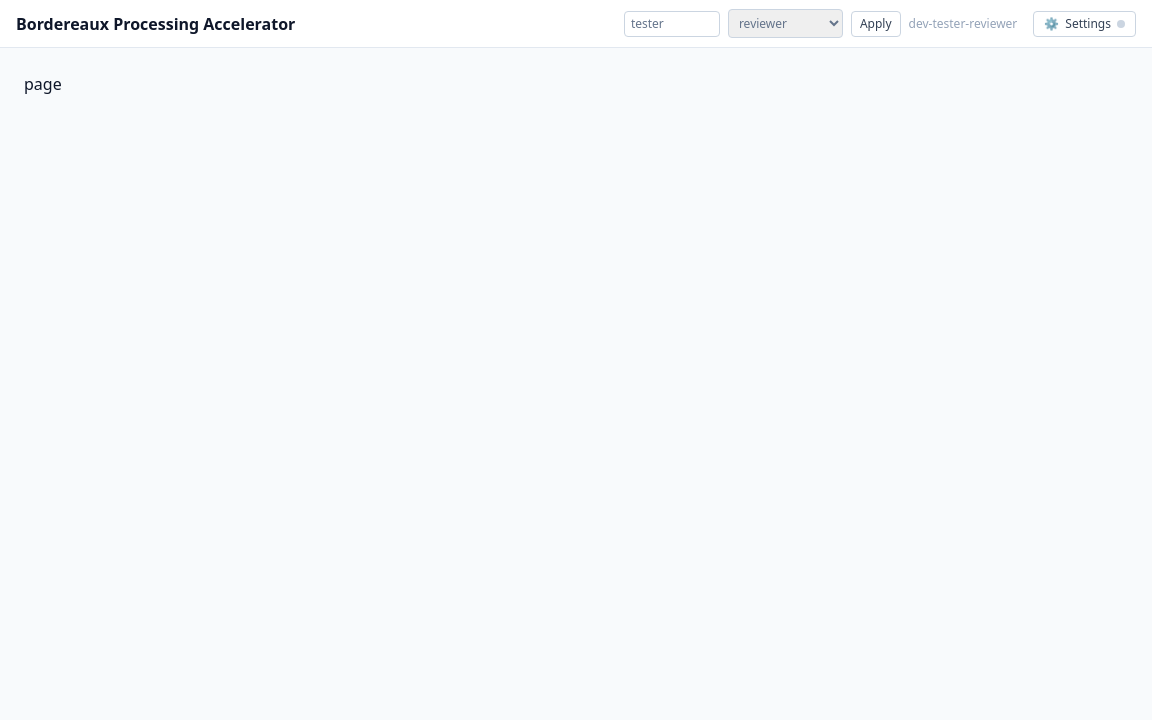
Scenario: Settings -> AI connection › opens from the header, shows the no-key state, and closes with Escape
The image size is (1152, 720).
Step 1. Click the button "⚙ Settings" → (1085, 24), box [1033, 10, 1136, 36]
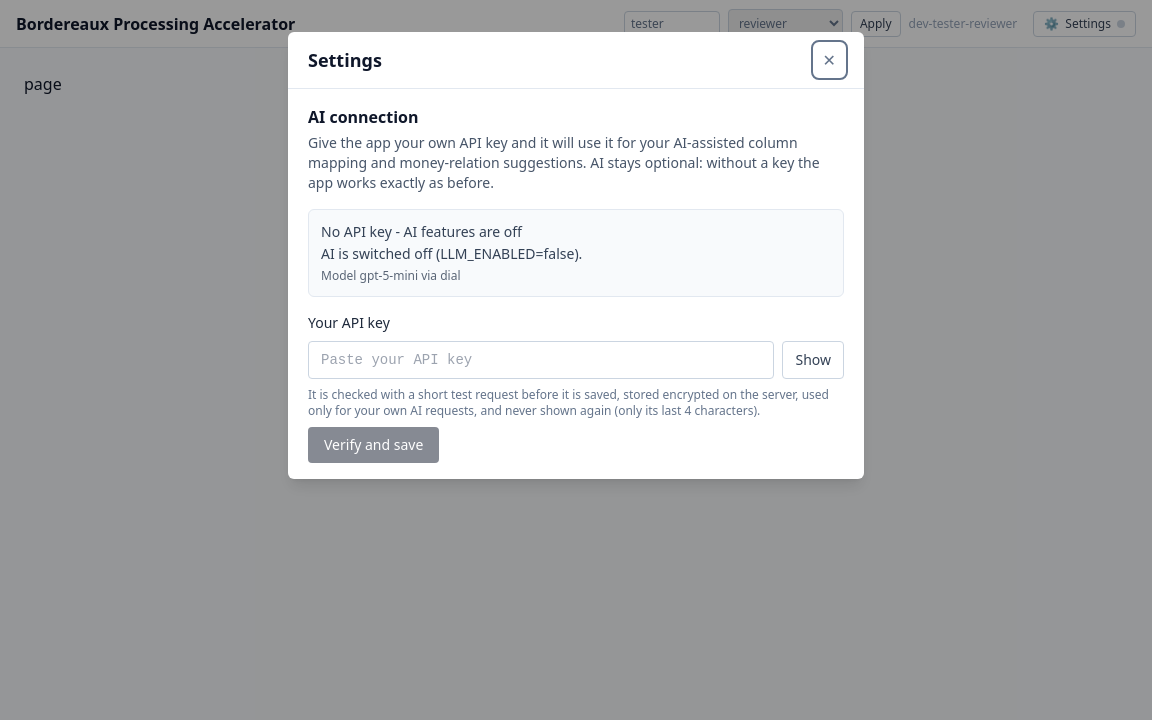
Expected: the picture named "AI not connected" is shown, [1117, 20, 1125, 28]
Expected: the text "No API key - AI features are off" is shown, [321, 222, 522, 241]
Step 2. Press Escape
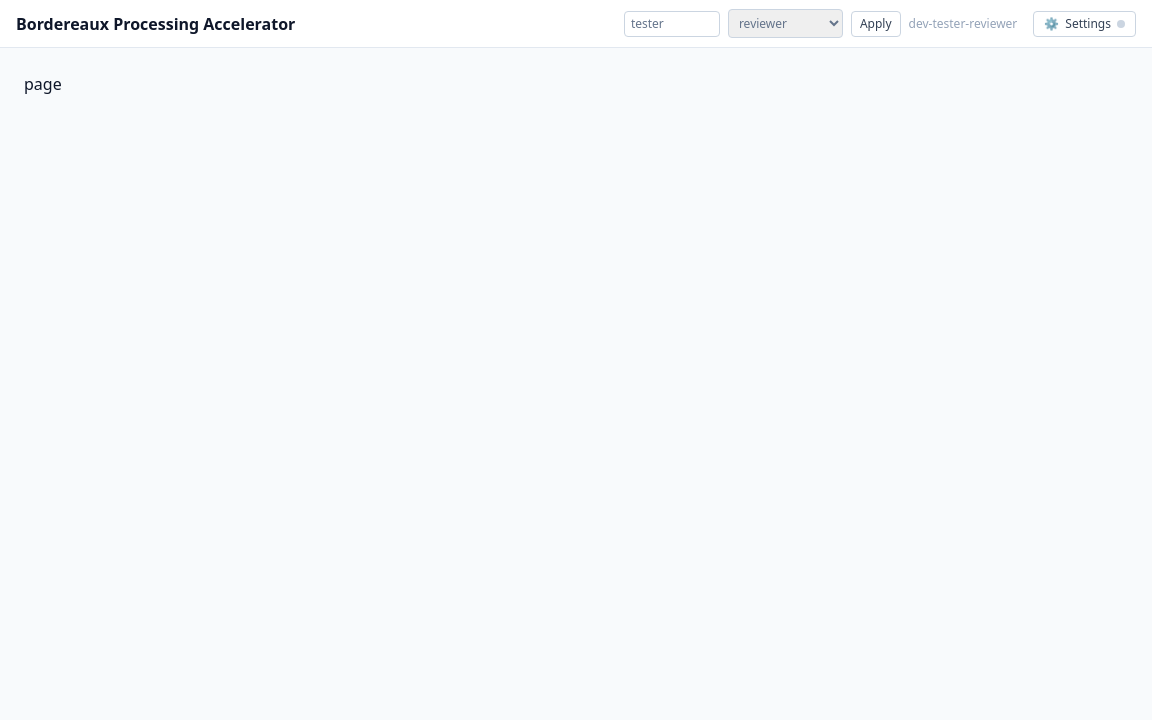
Expected: the dialog is gone
